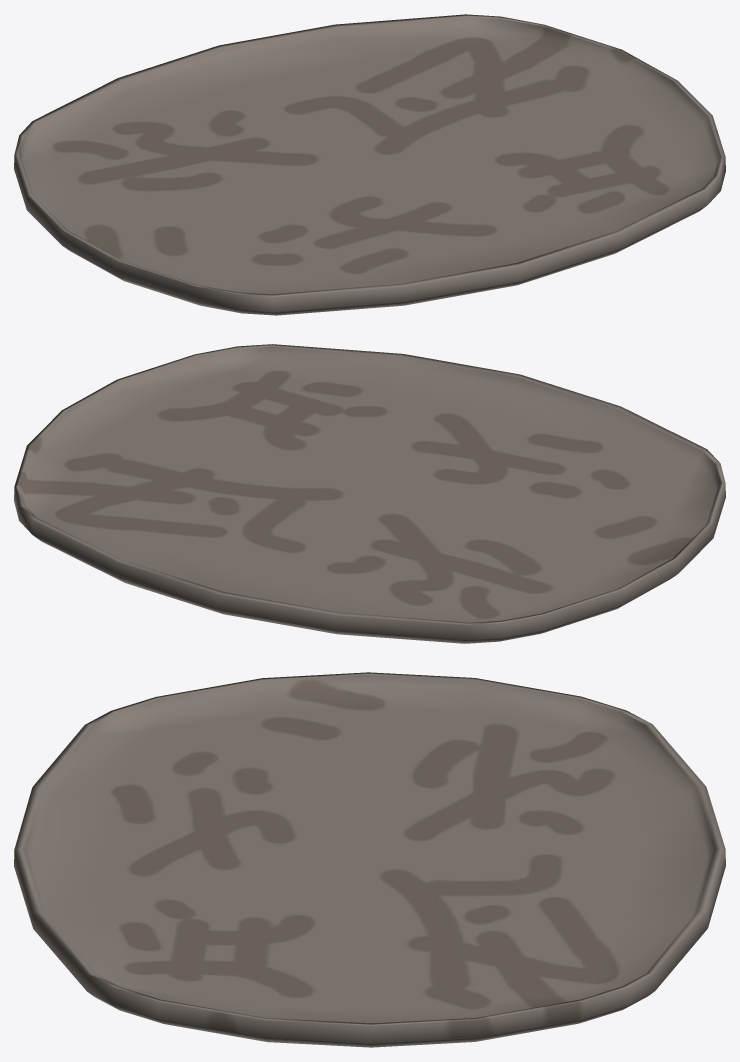
Rendered from Dojo_Second_Plate.fbx.
3 views of the same model, one above another, from view 1: azimuth 30°, elevation 25°; view 2: azimuth 150°, elevation 25°; view 3: azimuth 270°, elevation 25° (orthographic). The views are drawn at different scales.
Visible parts, largest first — view 1: Plate; view 2: Plate; view 3: Plate.
Part boxes in pixels (box(x1,y1,x2,y2)): Plate: box(14, 14, 725, 315); Plate: box(14, 344, 725, 643); Plate: box(14, 672, 725, 1047).
Size of the model in its own units: 60.26 by 2.03 by 51.16.
1 material, 1 textured.
